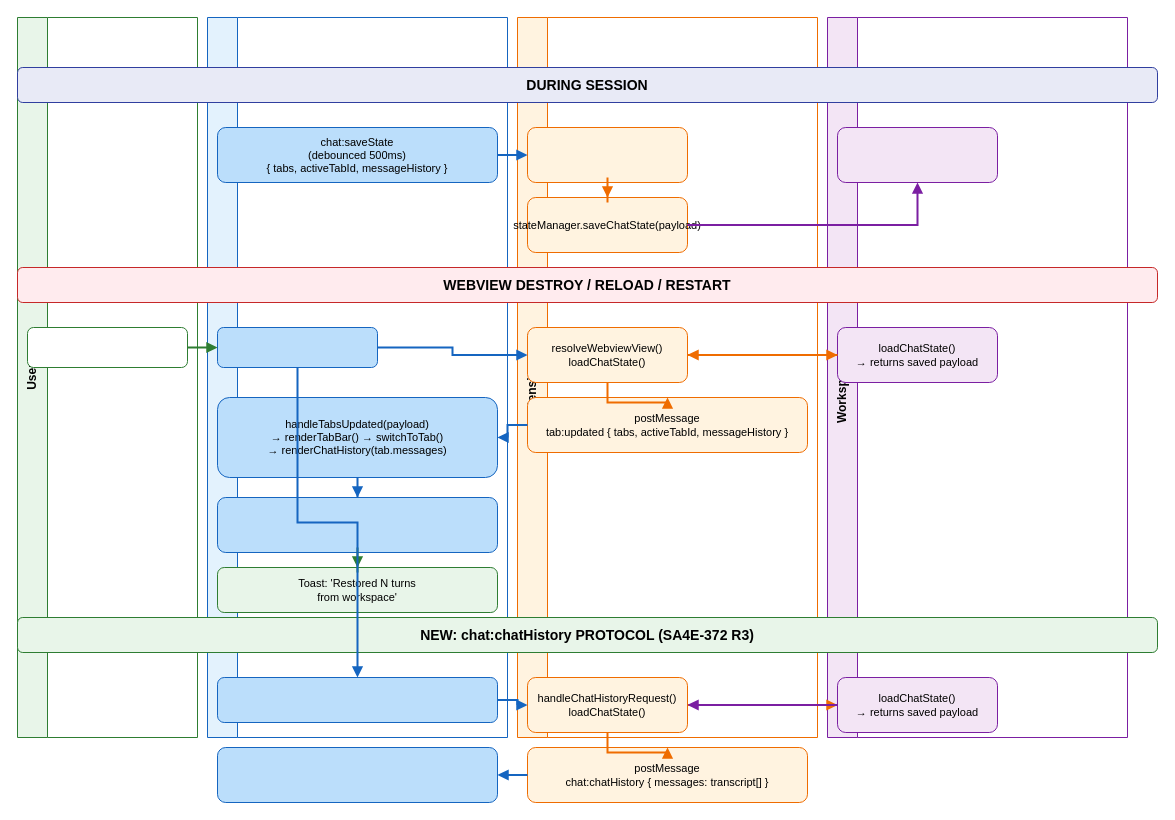
The diagram is 1175 pixels wide and 820 high, and some of its shapes have lost their labels. Each missing label, with the box of its shape:
chat:chatHistory (request): (216, 676, 498, 722)
Full transcript restored with all loops, tools, collapse states: (216, 496, 498, 552)
handleBuiltinChatMessage chat:saveState: (526, 126, 688, 182)
Open chat panel: (26, 326, 188, 368)
ready: (216, 326, 378, 368)
renderChatHistory(messages): (216, 746, 498, 802)
update('chatPanel.state', payload): (836, 126, 998, 182)
Webview: (206, 16, 508, 738)
